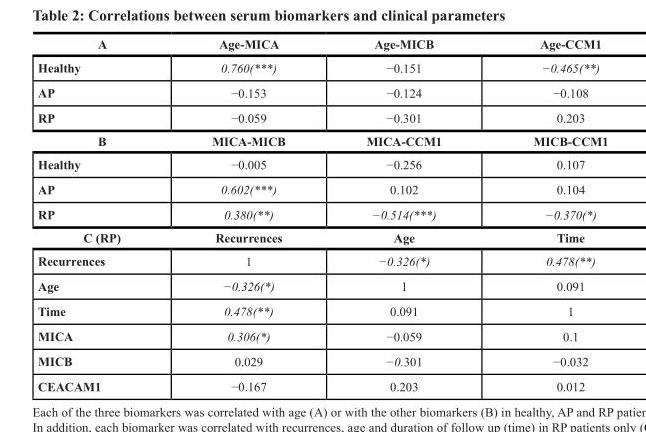table: (37, 36, 607, 393)
table column: (325, 36, 486, 393), (165, 36, 325, 393), (37, 36, 165, 393), (486, 36, 607, 393)
table column header: (37, 36, 607, 55)
table row: (37, 79, 607, 104), (37, 104, 607, 129), (37, 176, 607, 201), (37, 248, 607, 273), (37, 273, 607, 298), (37, 298, 607, 323), (37, 323, 607, 348), (37, 348, 607, 373), (37, 55, 607, 79), (37, 152, 607, 176), (37, 201, 607, 225), (37, 129, 607, 152), (37, 225, 607, 248), (37, 373, 607, 393), (37, 36, 607, 55)
